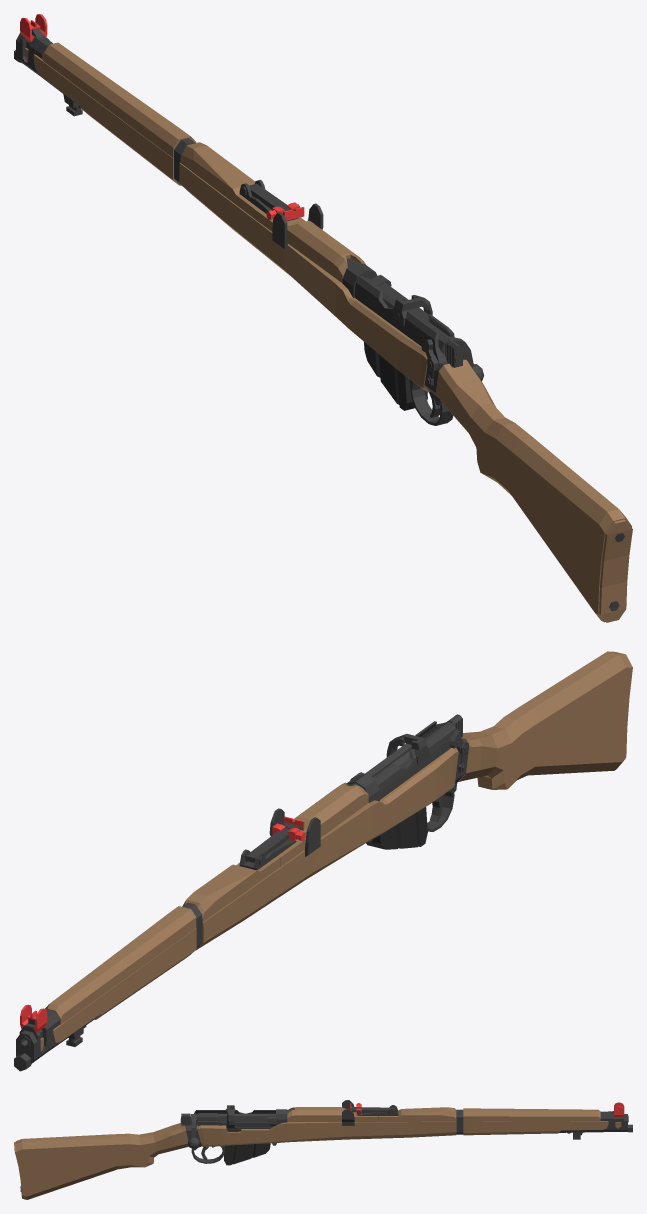
Rendered from sniper_3.glb.
The picture shows the model from 3 angles, top to bottom: view 1: azimuth 30°, elevation 25°; view 2: azimuth 150°, elevation 25°; view 3: azimuth 270°, elevation 25°; orthographic projection. The views are drawn at different scales.
Parts seen in each view (by area): view 1: p52_accent, p12_accent, p8_accent, p4_accent, p17_accent, p13_accent, p29_paint, p56_mag; view 2: p52_accent, p12_accent, p8_accent, p4_accent, p13_accent, p17_accent, p29_paint, p56_mag, p2_paint, p34_paint; view 3: p52_accent, p12_accent, p8_accent, p4_accent, p17_accent, p13_accent, p56_mag, p2_paint, p30_paint, p40_paint, p33_paint, p34_paint (+7 smaller).
Part boxes in pixels (<box>): p52_accent: <box>435,359,632,622</box>; p12_accent: <box>179,163,429,392</box>; p8_accent: <box>42,42,196,159</box>; p4_accent: <box>25,48,180,185</box>; p17_accent: <box>254,208,365,283</box>; p13_accent: <box>180,142,257,217</box>; p29_paint: <box>354,276,446,365</box>; p56_mag: <box>364,342,427,410</box>; p52_accent: <box>458,651,632,789</box>; p12_accent: <box>195,747,458,950</box>; p8_accent: <box>45,906,196,1024</box>; p4_accent: <box>40,928,196,1050</box>; p13_accent: <box>182,857,279,922</box>; p17_accent: <box>276,782,368,867</box>; p29_paint: <box>373,722,462,799</box>; p56_mag: <box>366,807,427,849</box>; p2_paint: <box>16,1016,97,1063</box>; p34_paint: <box>386,734,428,764</box>; p52_accent: <box>14,1123,188,1199</box>; p12_accent: <box>197,1121,456,1146</box>; p8_accent: <box>463,1108,600,1121</box>; p4_accent: <box>463,1121,621,1135</box>; p17_accent: <box>287,1107,378,1122</box>; p13_accent: <box>378,1107,456,1121</box>; p56_mag: <box>224,1121,270,1165</box>; p2_paint: <box>559,1111,627,1132</box>; p30_paint: <box>222,1121,274,1131</box>; p40_paint: <box>197,1113,218,1126</box>; p33_paint: <box>219,1116,267,1121</box>; p34_paint: <box>226,1105,240,1131</box>.
Size of the model in its own units: 0.0597 by 0.1892 by 1.13.
